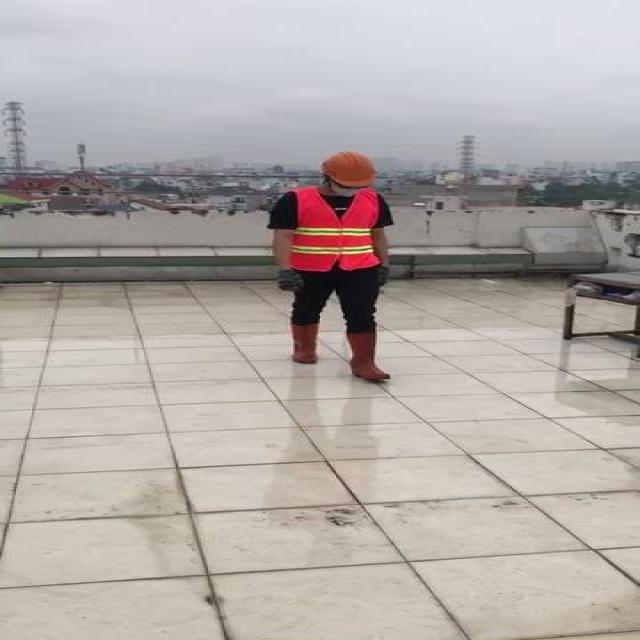boots: (345, 330, 391, 381), (288, 322, 322, 364)
hand_glove: (274, 271, 302, 292), (372, 269, 388, 293)
head_helmet: (321, 150, 374, 188)
person: (254, 150, 414, 386)
vest: (292, 186, 381, 271)
